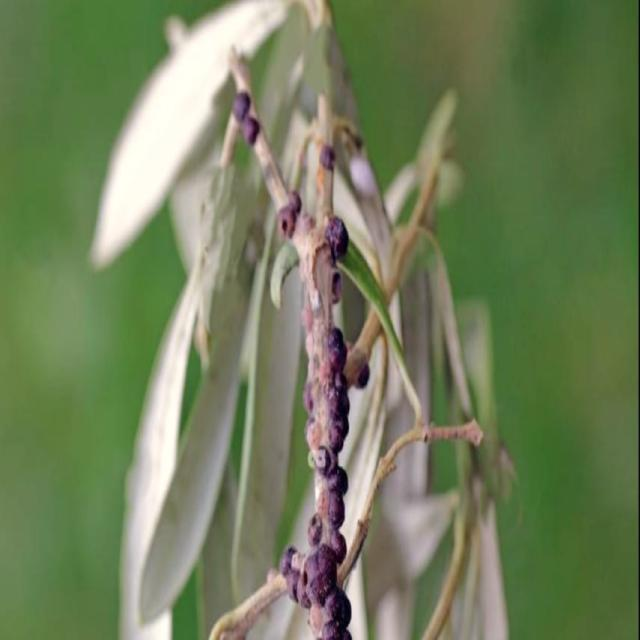BlackScale: (278, 318, 351, 638), (232, 90, 260, 146), (278, 192, 304, 238), (325, 216, 348, 266), (332, 271, 342, 303)
